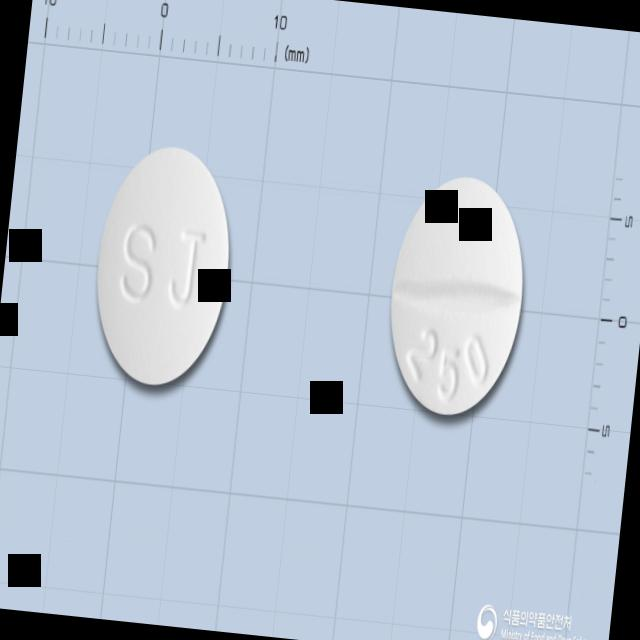Quinos Tab: (85, 139, 241, 395), (380, 168, 536, 422)
